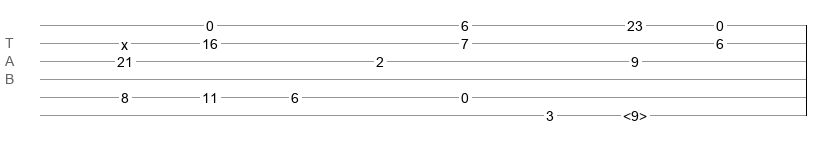0: (206, 18, 214, 28), (461, 90, 469, 100), (716, 18, 724, 28)
11: (202, 90, 218, 100)
16: (202, 36, 218, 46)
2: (376, 54, 384, 64)
21: (117, 54, 133, 64)
23: (627, 18, 643, 28)
3: (546, 108, 554, 118)
6: (291, 90, 299, 100), (461, 18, 469, 28), (716, 36, 724, 46)
7: (461, 36, 469, 46)
8: (121, 90, 129, 100)
9: (631, 54, 639, 64)
harmonic: (623, 108, 647, 118)
x: (121, 37, 128, 45)
